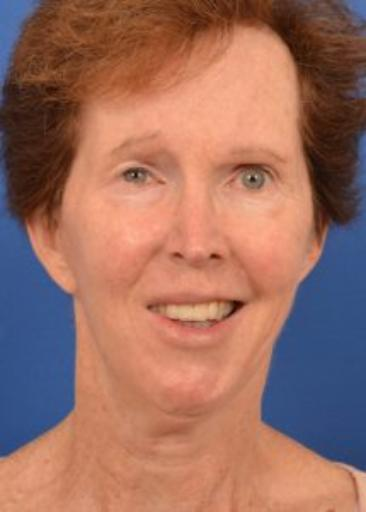left_eye: (231, 169, 276, 193)
left_lip_corner: (233, 295, 253, 316)
right_eye: (117, 165, 163, 190)
right_lip_corner: (140, 300, 167, 323)
